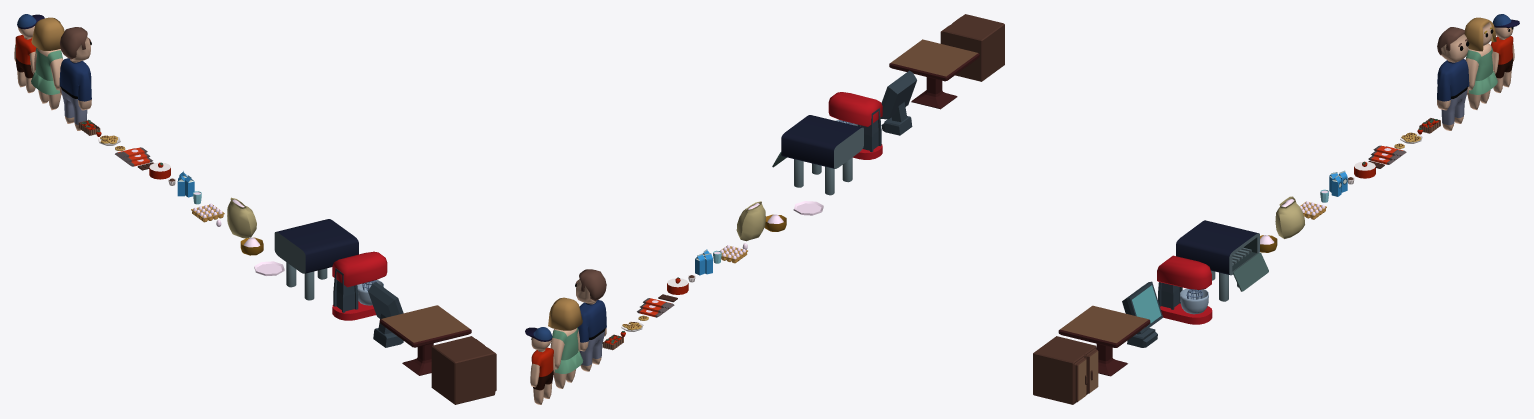
Rendered from FullAssetPack.fbx.
The picture shows the model from 3 angles, left to right: view 1: azimuth 30°, elevation 25°; view 2: azimuth 150°, elevation 25°; view 3: azimuth 330°, elevation 25°; orthographic projection.
Visible parts, largest first — view 1: Oven, Object, Mixer, Table, Man, Woman, Kid, Kassa, Flour bag, ChocolateStack; view 2: Oven, Table, Object, Man, Woman, Mixer, Kid, Kassa, Flour bag, ChocolateStack; view 3: Oven, Object, Mixer, Table, Man, Woman, Kassa, Kid, Flour bag, ChocolateStack.
Part boxes in pixels (box(x1,y1,x2,y2)): Oven: box(274, 219, 358, 300); Object: box(431, 336, 496, 404); Mixer: box(332, 251, 387, 320); Table: box(379, 305, 471, 375); Man: box(59, 27, 91, 130); Woman: box(31, 17, 64, 110); Kid: box(14, 14, 44, 93); Kassa: box(368, 282, 403, 347); Flour bag: box(227, 197, 256, 238); ChocolateStack: box(115, 147, 152, 166); Oven: box(772, 115, 863, 195); Table: box(889, 39, 979, 109); Object: box(940, 14, 1004, 81); Man: box(575, 269, 606, 371); Woman: box(548, 297, 583, 388); Mixer: box(828, 92, 882, 159); Kid: box(525, 327, 555, 404); Kassa: box(880, 70, 916, 135); Flour bag: box(736, 201, 765, 241); ChocolateStack: box(637, 298, 674, 317); Oven: box(1176, 220, 1268, 301); Object: box(1033, 336, 1098, 404); Mixer: box(1157, 255, 1212, 324); Table: box(1058, 305, 1150, 376); Man: box(1437, 27, 1469, 130); Woman: box(1464, 17, 1497, 109); Kassa: box(1122, 281, 1162, 347); Kid: box(1491, 14, 1519, 92); Flour bag: box(1275, 196, 1304, 238); ChocolateStack: box(1368, 145, 1406, 164).
Size of the model in its own units: 513 by 684 by 5842.
